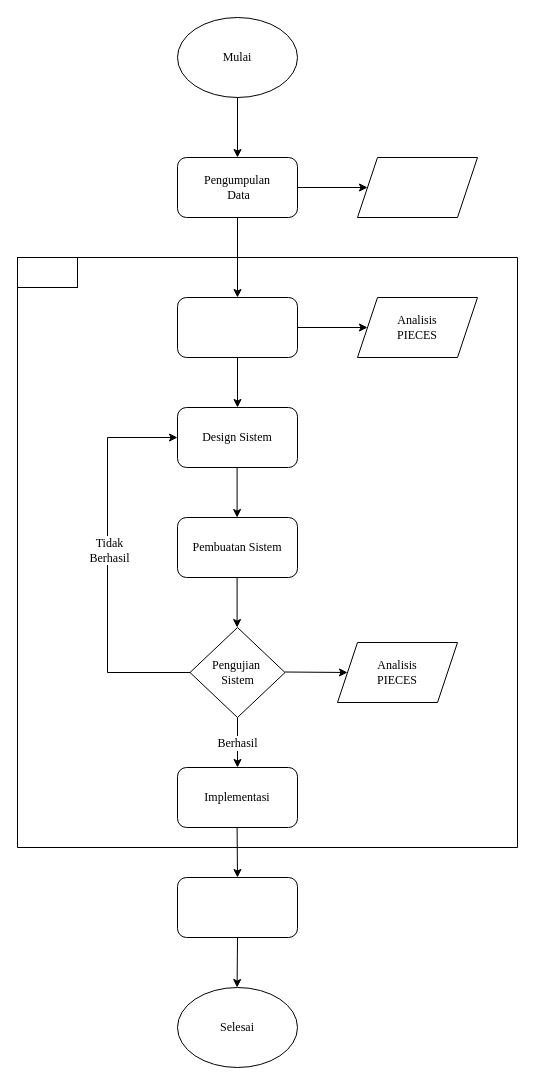
Some shapes in this 536 by 1085 pixel diagram are drawn without their labels. Here are the shapes that lost their labels. From the top down, the centre of each, then its label:
At pixel 417 187: "1. Wawancara 2. Penelitian".
At pixel 47 272: "RA D".
At pixel 237 327: "Analisis Masalah dan Kebutuhan".
At pixel 237 907: "Dokumentasi".
